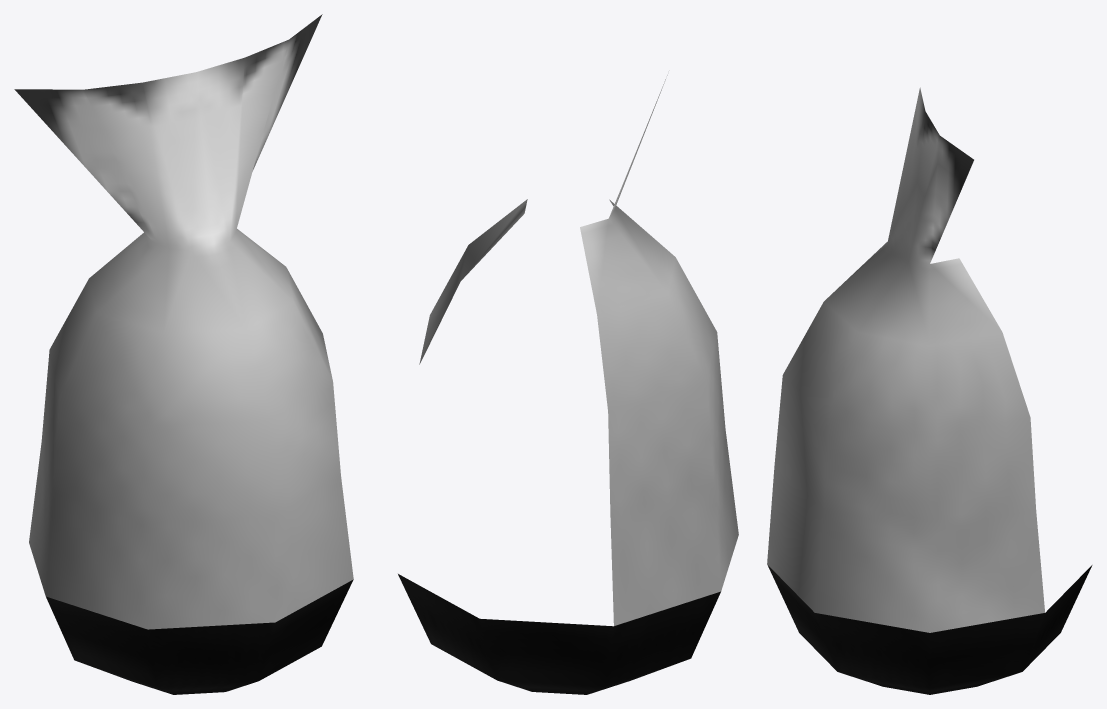
Rendered from PltTreeBamboo0.glb.
3 renders of one model, left to right at view 1: azimuth 30°, elevation 25°; view 2: azimuth 150°, elevation 25°; view 3: azimuth 270°, elevation 25°, orthographic. The views are drawn at different scales.
Visible parts, largest first — view 1: pCylinder40__mPltTreeBambooLeaf, pCylinder41__mPltTreeBambooTrunk; view 2: pCylinder40__mPltTreeBambooLeaf, pCylinder41__mPltTreeBambooTrunk; view 3: pCylinder40__mPltTreeBambooLeaf, pCylinder41__mPltTreeBambooTrunk.
Boxes of the visible parts, bbox=[...] form: pCylinder40__mPltTreeBambooLeaf: bbox=[14, 14, 353, 629]; pCylinder41__mPltTreeBambooTrunk: bbox=[46, 579, 353, 694]; pCylinder40__mPltTreeBambooLeaf: bbox=[419, 75, 738, 625]; pCylinder41__mPltTreeBambooTrunk: bbox=[398, 574, 720, 694]; pCylinder40__mPltTreeBambooLeaf: bbox=[767, 87, 1044, 632]; pCylinder41__mPltTreeBambooTrunk: bbox=[767, 565, 1092, 694].
Bounding box in the file's own units: 2.71 × 5.03 × 2.56.
2 materials, 2 textured.
